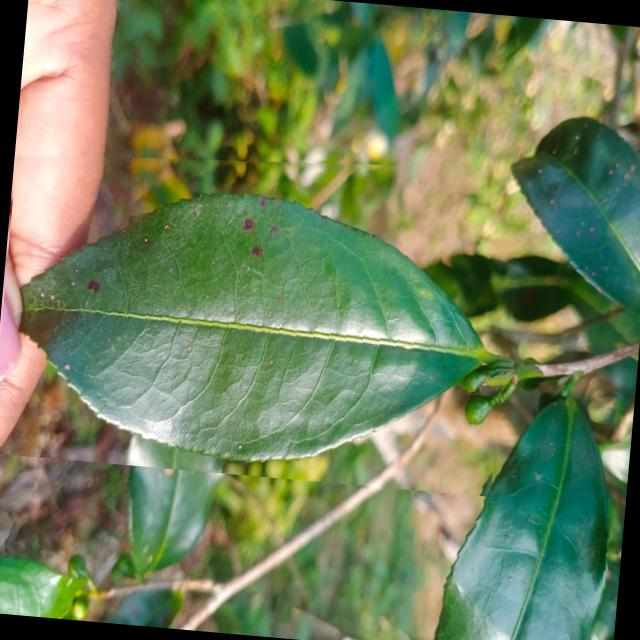Category D(7+ days, Not for Tea): (0, 124, 525, 497)
